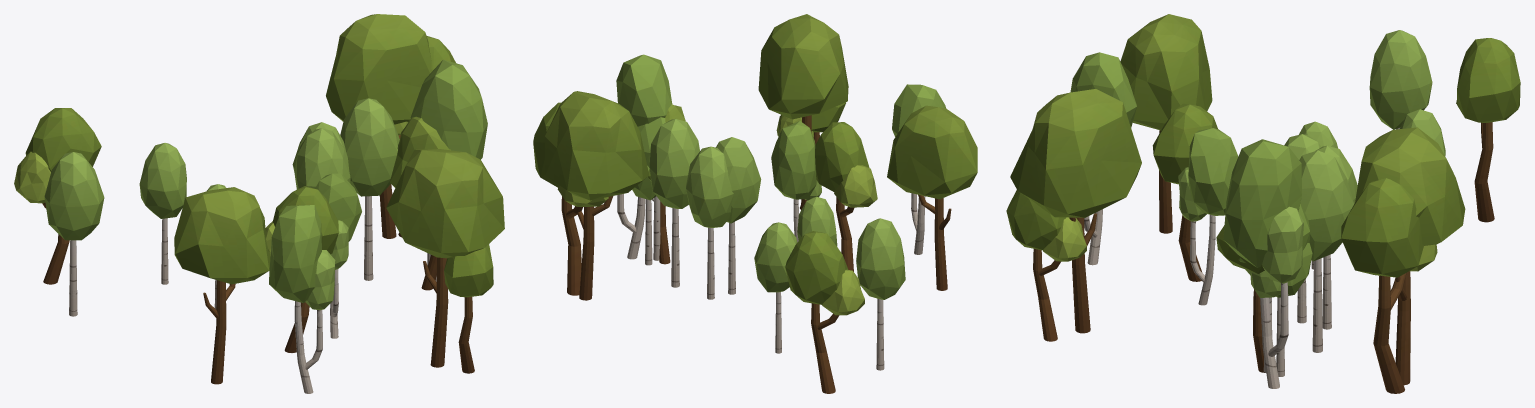
Rendered from Trees11.gltf.
3 views of the same model, side by side, from view 1: azimuth 30°, elevation 25°; view 2: azimuth 150°, elevation 25°; view 3: azimuth 270°, elevation 25° (orthographic). The views are drawn at different scales.
Visible parts, largest first — view 1: Beechtree3 - copy.024, Beechtree3 - copy.039, Beechtree3 - copy.006, BirchTree2 - copy.012, BirchTree1 - copy.051, Beechtree2 - copy.010, BirchTree2 - copy.031, BirchTree1 - copy.057, BirchTree1 - copy.041, Beechtree2 - copy.025, BirchTree2 - copy.044, BirchTree1 - copy.010 (+3 smaller); view 2: Beechtree3 - copy.039, Beechtree3 - copy.006, Beechtree3 - copy.024, Beechtree2 - copy.010, Beechtree2 - copy.006, BirchTree1 - copy.051, BirchTree2 - copy.031, BirchTree1 - copy.057, BirchTree1 - copy.049, BirchTree2 - copy.044, BirchTree1 - copy.010, Beechtree2 - copy.012 (+7 smaller); view 3: Beechtree3 - copy.024, BirchTree2 - copy.031, Beechtree2 - copy.012, Beechtree3 - copy.039, Beechtree3 - copy.006, Beechtree2 - copy.010, BirchTree2 - copy.044, BirchTree1 - copy.051, BirchTree1 - copy.057, Beechtree2 - copy.025, Beechtree2 - copy.006, BirchTree2 - copy.012 (+7 smaller).
Part boxes in pixels (box(x1,y1,x2,y2)): Beechtree3 - copy.024: box(386, 149, 504, 367); Beechtree3 - copy.039: box(326, 14, 431, 238); Beechtree3 - copy.006: box(174, 187, 270, 384); BirchTree2 - copy.012: box(269, 205, 335, 393); BirchTree1 - copy.051: box(340, 98, 399, 280); Beechtree2 - copy.010: box(14, 108, 101, 284); BirchTree2 - copy.031: box(410, 59, 487, 159); BirchTree1 - copy.057: box(44, 152, 104, 316); BirchTree1 - copy.041: box(139, 143, 186, 284); Beechtree2 - copy.025: box(444, 244, 493, 373); BirchTree2 - copy.044: box(315, 173, 361, 338); BirchTree1 - copy.010: box(294, 128, 350, 189); Beechtree3 - copy.039: box(544, 91, 649, 300); Beechtree3 - copy.006: box(887, 105, 977, 290); Beechtree3 - copy.024: box(758, 14, 848, 209); Beechtree2 - copy.010: box(785, 231, 864, 393); Beechtree2 - copy.006: box(815, 122, 877, 271); BirchTree1 - copy.051: box(649, 119, 699, 287); BirchTree2 - copy.031: box(616, 54, 672, 259); BirchTree1 - copy.057: box(856, 218, 905, 370); BirchTree1 - copy.049: box(686, 146, 733, 299); BirchTree2 - copy.044: box(771, 121, 821, 242); BirchTree1 - copy.010: box(716, 137, 761, 294); Beechtree2 - copy.012: box(533, 102, 608, 295); Beechtree3 - copy.024: box(1010, 89, 1141, 333); BirchTree2 - copy.031: box(1223, 139, 1303, 388); Beechtree2 - copy.012: box(1341, 178, 1437, 393); Beechtree3 - copy.039: box(1355, 127, 1465, 385); Beechtree3 - copy.006: box(1120, 14, 1212, 233); Beechtree2 - copy.010: box(1456, 38, 1520, 222); BirchTree2 - copy.044: box(1178, 128, 1238, 305); BirchTree1 - copy.051: box(1299, 150, 1353, 352); BirchTree1 - copy.057: box(1369, 30, 1432, 129); Beechtree2 - copy.025: box(1006, 190, 1086, 341); Beechtree2 - copy.006: box(1152, 103, 1217, 281); BirchTree2 - copy.012: box(1070, 52, 1136, 265).
Bounding box in the file's own units: 21.82 × 11.45 × 21.67.
6 materials, 6 textured.
